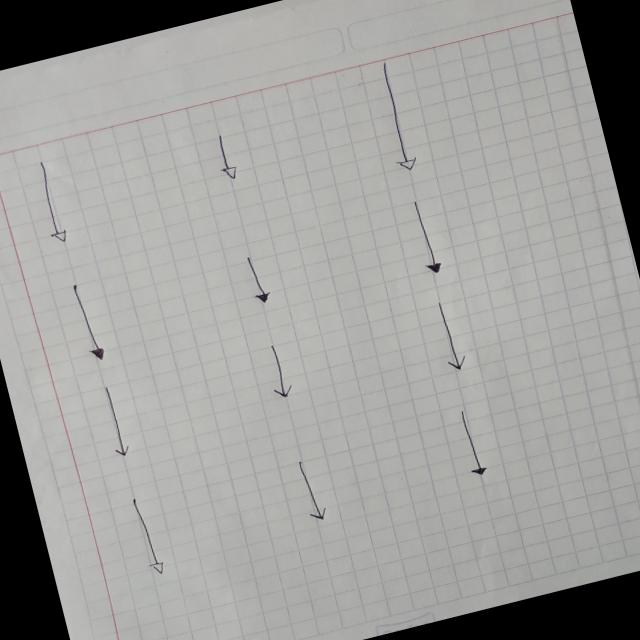arrow_line_down: (370, 59, 422, 174), (63, 278, 112, 367), (28, 156, 74, 248), (123, 490, 168, 578), (401, 193, 446, 278), (428, 294, 472, 376), (286, 455, 332, 526), (94, 380, 134, 460), (450, 404, 490, 480), (256, 338, 296, 401), (235, 248, 275, 310), (208, 130, 245, 186)
